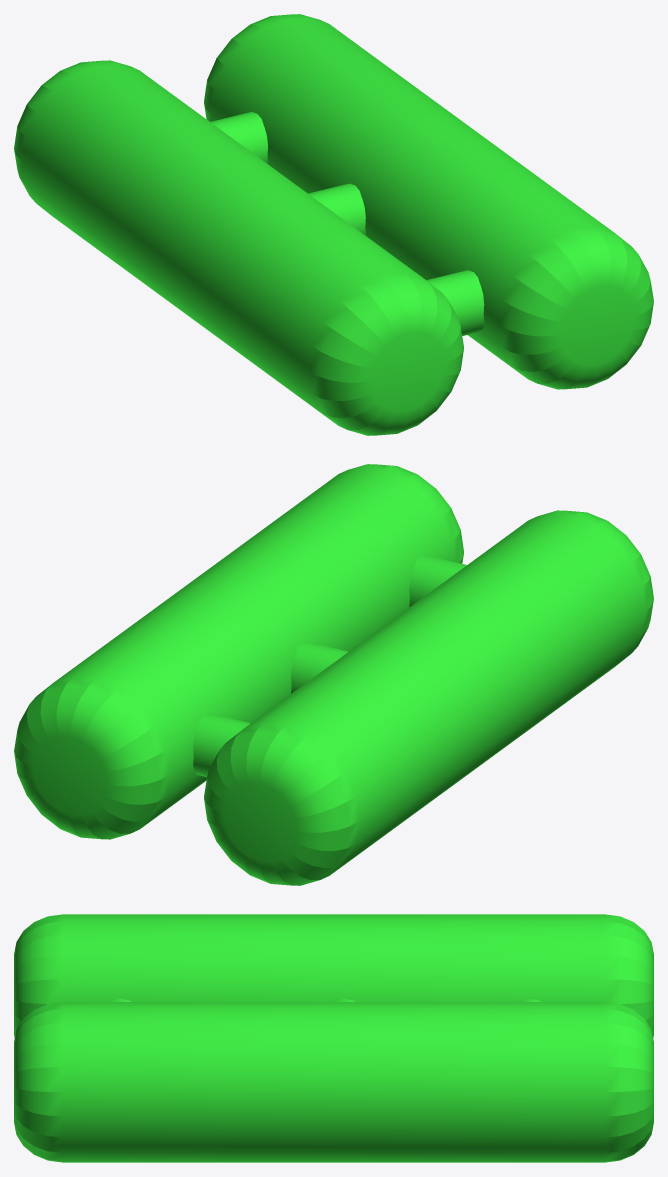
The model's file is PlasticFactory_stage0.fbx.
3 renders of one model, top to bottom at view 1: azimuth 30°, elevation 25°; view 2: azimuth 150°, elevation 25°; view 3: azimuth 270°, elevation 25°, orthographic. The views are drawn at different scales.
Visible parts, largest first — view 1: polySurface246; view 2: polySurface246; view 3: polySurface246.
Boxes of the visible parts, left/top/right/bottom form: polySurface246: left=14, top=14, right=653, bottom=435; polySurface246: left=14, top=464, right=653, bottom=885; polySurface246: left=14, top=914, right=653, bottom=1162.
Size of the model in its own units: 37.95 by 16.61 by 65.75.
2 materials, 2 textured.
